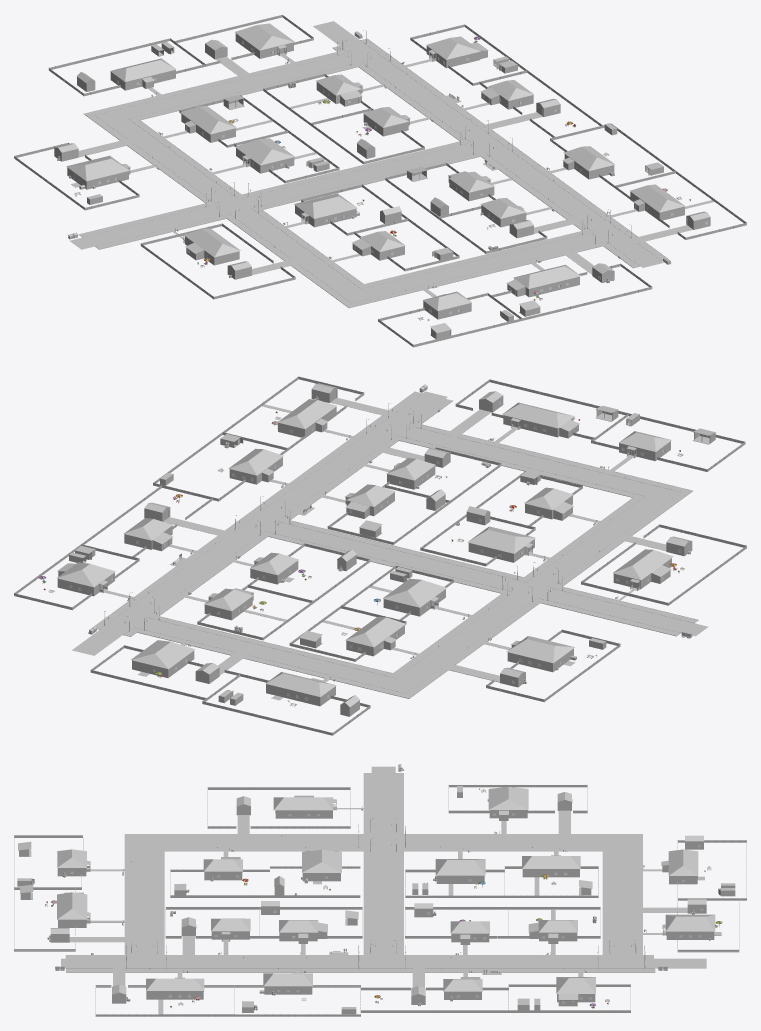
The model's file is PuebloLittleCantry.fbx.
The picture shows the model from 3 angles, top to bottom: view 1: azimuth 30°, elevation 25°; view 2: azimuth 150°, elevation 25°; view 3: azimuth 270°, elevation 25°; orthographic projection. The views are drawn at different scales.
Parts seen in each view (by area): view 1: Plane.003, Tropka.006, Tropka.028, Tropka.029, Tropka.018, Tropka.012, Zabor.025, Roof.008, Roof.020, Roof, Roof.012, Roof.018 (+21 smaller); view 2: Plane.003, Tropka.028, Tropka.006, Tropka.029, Tropka.018, Tropka.012, Zabor.025, Roof.008, Roof.020, Roof.012, Roof, Roof.018 (+28 smaller); view 3: Plane.003, Tropka.006, Tropka.028, Tropka.012, Tropka.029, Tropka.018, Roof, Roof.020, Roof.012, Zabor.025, Roof.008, Roof.018 (+29 smaller).
Part boxes in pixels (x1=…): Plane.003: x1=69, y1=21, x2=663, y2=302; Tropka.006: x1=129, y1=62, x2=471, y2=199; Tropka.028: x1=251, y1=151, x2=593, y2=288; Tropka.029: x1=95, y1=213, x2=640, y2=308; Tropka.018: x1=78, y1=46, x2=348, y2=237; Tropka.012: x1=360, y1=38, x2=667, y2=260; Zabor.025: x1=140, y1=223, x2=295, y2=299; Roof.008: x1=235, y1=138, x2=294, y2=165; Roof.020: x1=234, y1=23, x2=294, y2=50; Roof: x1=66, y1=155, x2=129, y2=181; Roof.012: x1=294, y1=193, x2=357, y2=218; Roof.018: x1=184, y1=228, x2=240, y2=257; Plane.003: x1=72, y1=391, x2=708, y2=693; Tropka.028: x1=278, y1=435, x2=644, y2=582; Tropka.006: x1=147, y1=531, x2=513, y2=678; Tropka.029: x1=409, y1=398, x2=698, y2=623; Tropka.018: x1=123, y1=597, x2=680, y2=698; Tropka.012: x1=94, y1=391, x2=422, y2=629; Zabor.025: x1=581, y1=524, x2=746, y2=605; Roof.008: x1=383, y1=578, x2=446, y2=607; Roof.020: x1=131, y1=640, x2=195, y2=669; Roof.012: x1=467, y1=526, x2=535, y2=553; Roof: x1=506, y1=636, x2=574, y2=663; Roof.018: x1=613, y1=549, x2=673, y2=580; Plane.003: x1=61, y1=766, x2=706, y2=968; Tropka.006: x1=395, y1=847, x2=610, y2=958; Tropka.028: x1=156, y1=847, x2=371, y2=958; Tropka.012: x1=66, y1=968, x2=655, y2=974; Tropka.029: x1=65, y1=773, x2=371, y2=958; Tropka.018: x1=395, y1=773, x2=653, y2=958; Roof: x1=488, y1=787, x2=528, y2=809; Roof.020: x1=665, y1=914, x2=715, y2=931; Roof.012: x1=302, y1=850, x2=341, y2=872; Zabor.025: x1=207, y1=787, x2=350, y2=828; Roof.008: x1=435, y1=859, x2=485, y2=875; Roof.018: x1=273, y1=797, x2=333, y2=810.
Size of the model in its own units: 24759 by 758 by 30676.
